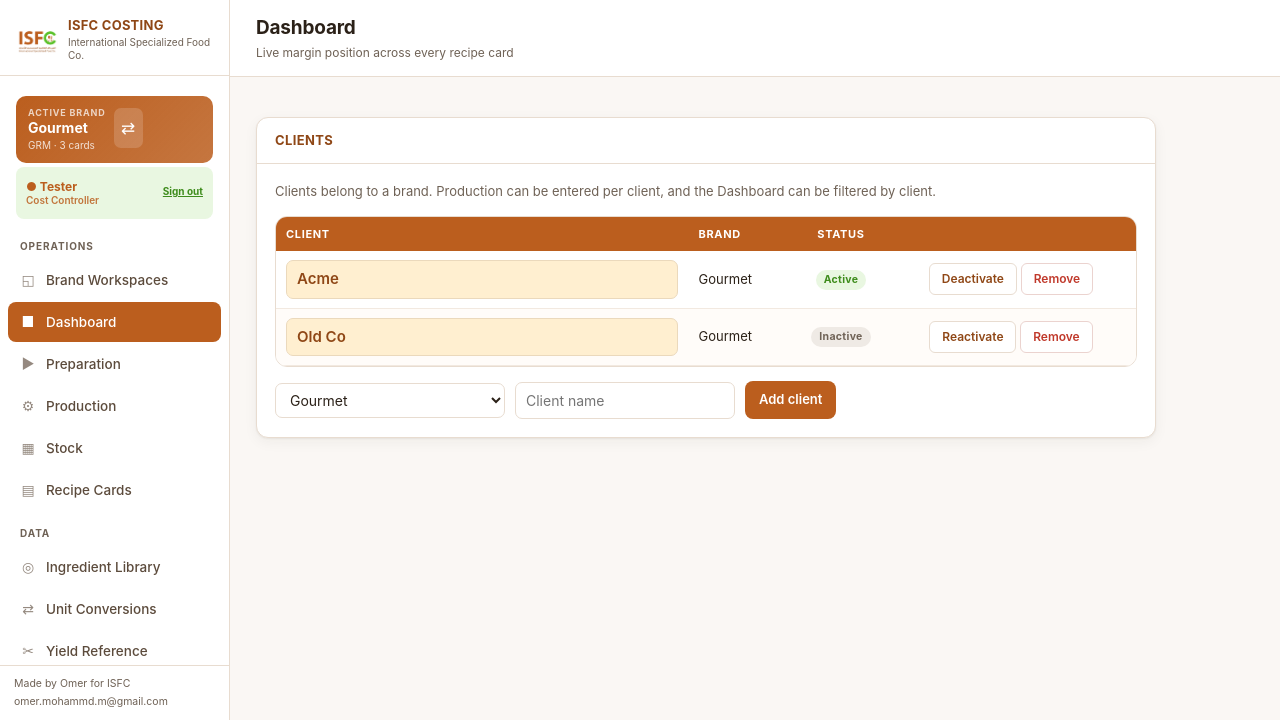
Test: Clients card in Cost Settings (D-68/D-71) › a client with production cannot be removed: the server message is shown
Click the 1st button "Remove" at (1057, 279), box [1021, 263, 1093, 295]
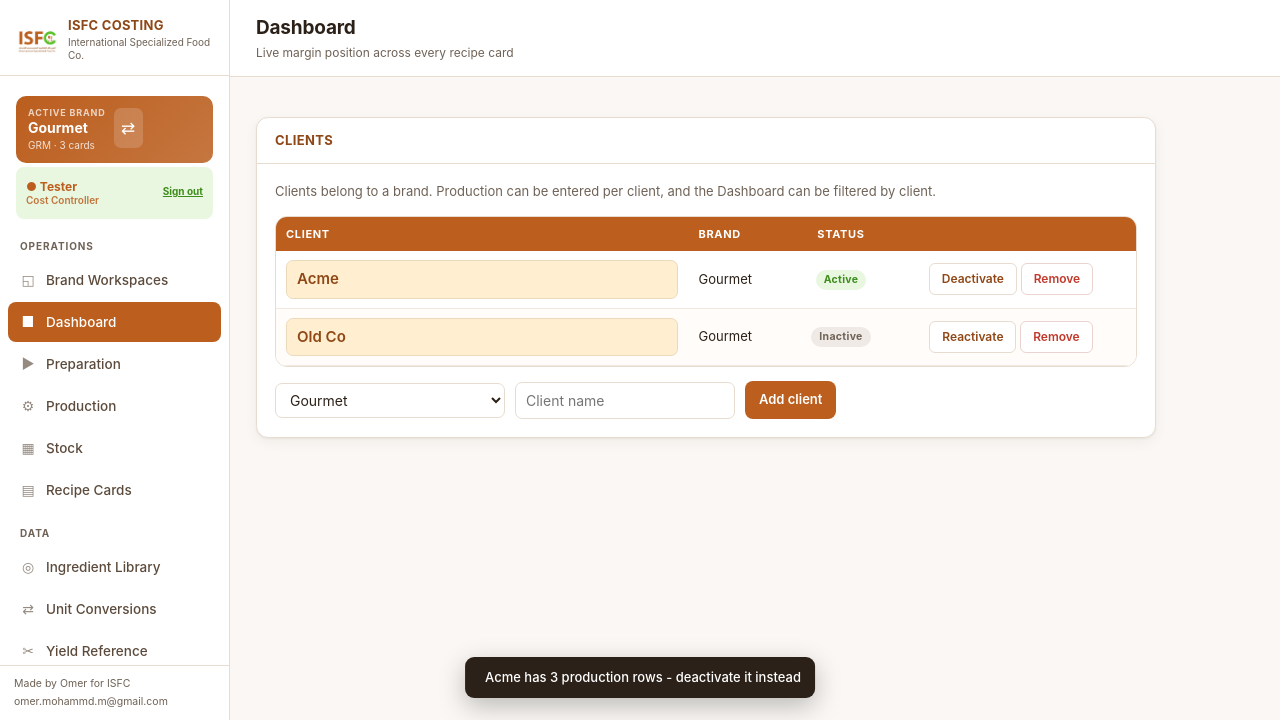
Result: the text "Acme has 3 production rows - deactivate it instead" is shown at [485, 668, 801, 687]
